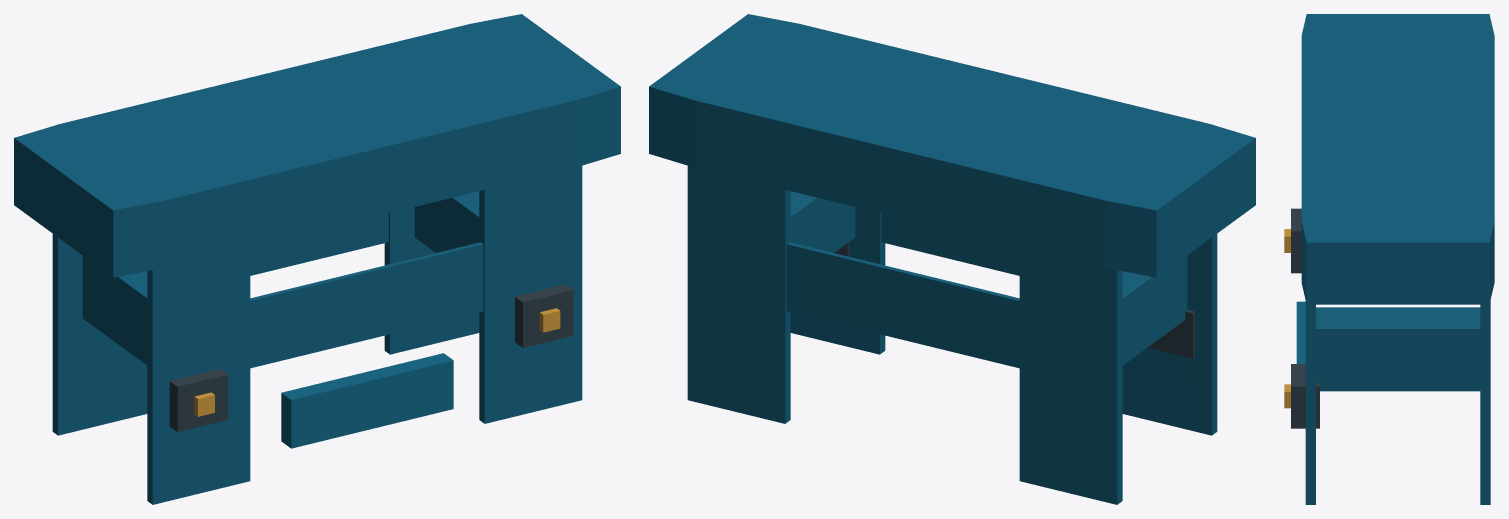
Rendered from market-bench-sky.glb.
3 renders of one model, left to right at view 1: azimuth 30°, elevation 25°; view 2: azimuth 150°, elevation 25°; view 3: azimuth 270°, elevation 25°, orthographic. The views are drawn at different scales.
Parts seen in each view (by area): view 1: market-bench-sky; view 2: market-bench-sky; view 3: market-bench-sky.
Boxes of the visible parts, x1,y1,x2,y2 form: market-bench-sky: (14,14,620,504); market-bench-sky: (649,14,1255,504); market-bench-sky: (1284,14,1494,504).
Size of the model in its own units: 1.4 by 0.8 by 0.5445.
